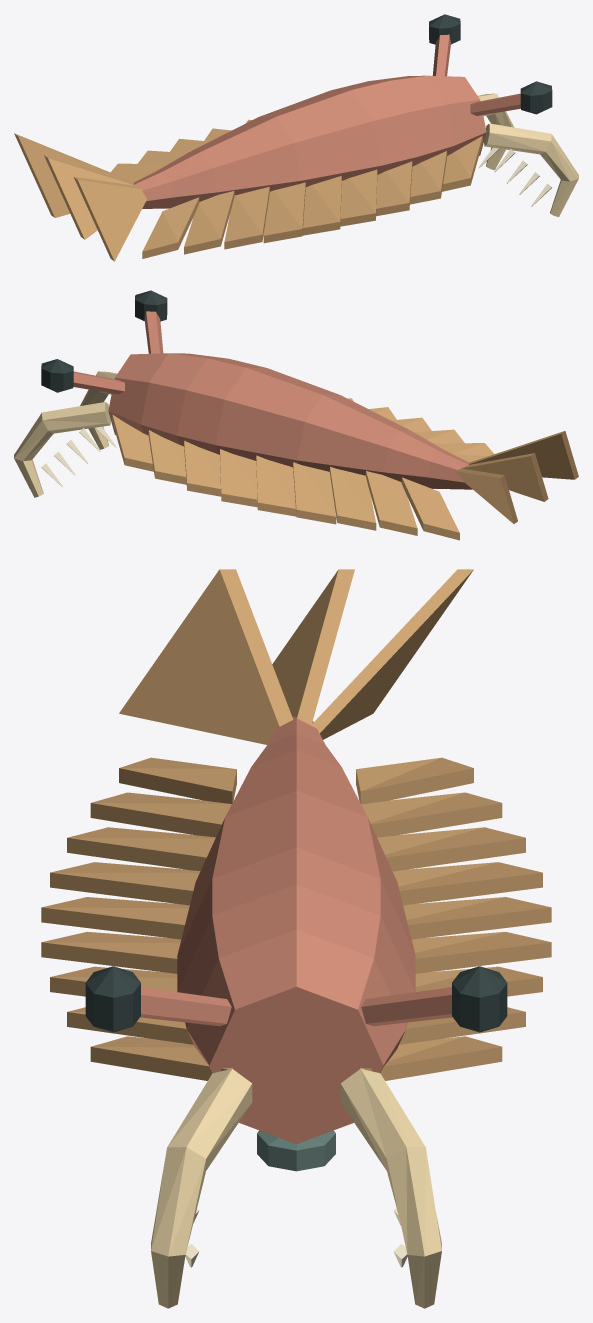
The model's file is anomalocaris.ff4da49eaceb.glb.
3 views of the same model, one above another, from view 1: azimuth 30°, elevation 25°; view 2: azimuth 150°, elevation 25°; view 3: azimuth 270°, elevation 25° (orthographic). The views are drawn at different scales.
Parts seen in each view (by area): view 1: anomalocaris; view 2: anomalocaris; view 3: anomalocaris.
Part boxes in pixels (left/top/right/bottom): anomalocaris: left=14, top=14, right=578, bottom=261; anomalocaris: left=14, top=290, right=578, bottom=540; anomalocaris: left=41, top=569, right=551, bottom=1308.
Size of the model in its own units: 1 by 0.3006 by 0.4526.
